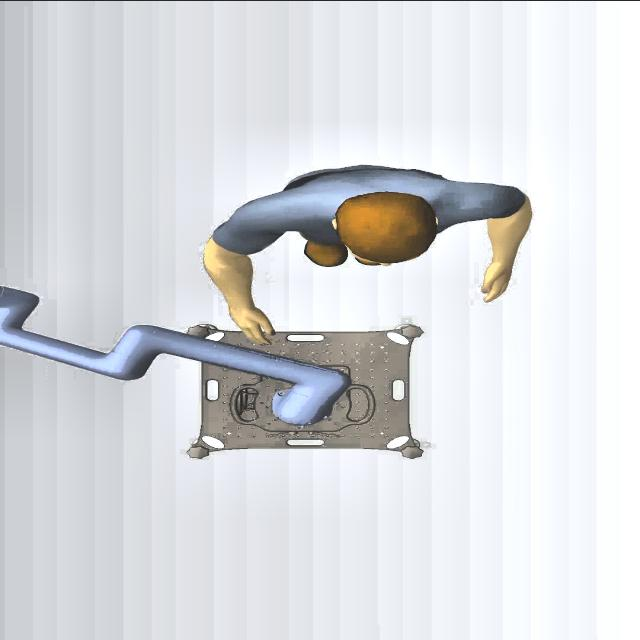human: (200, 163, 532, 345)
robot: (0, 282, 354, 431)
